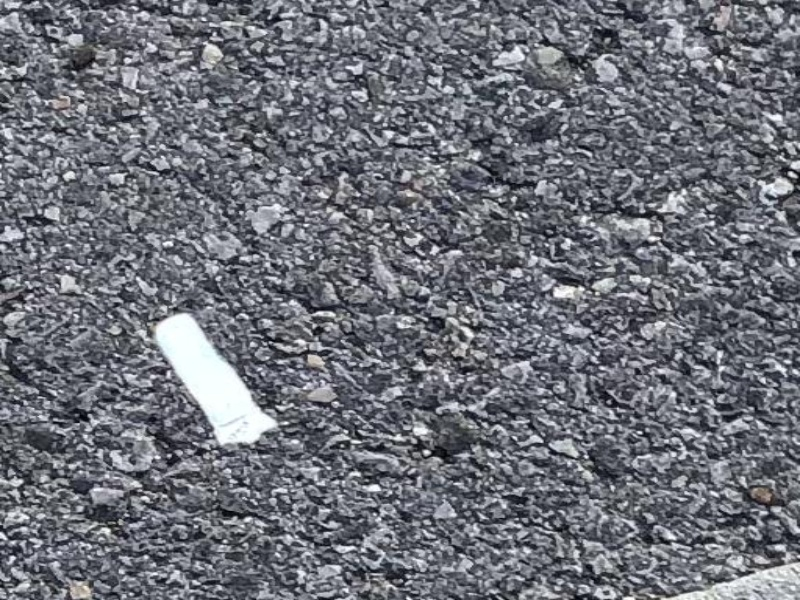cig: (147, 309, 284, 449)
